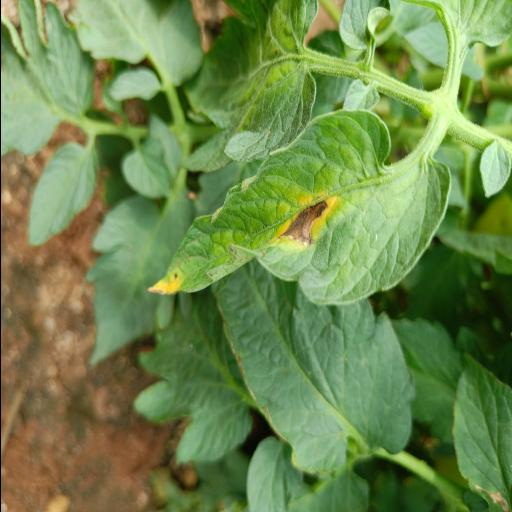disease_tomato: (142, 104, 450, 310)
